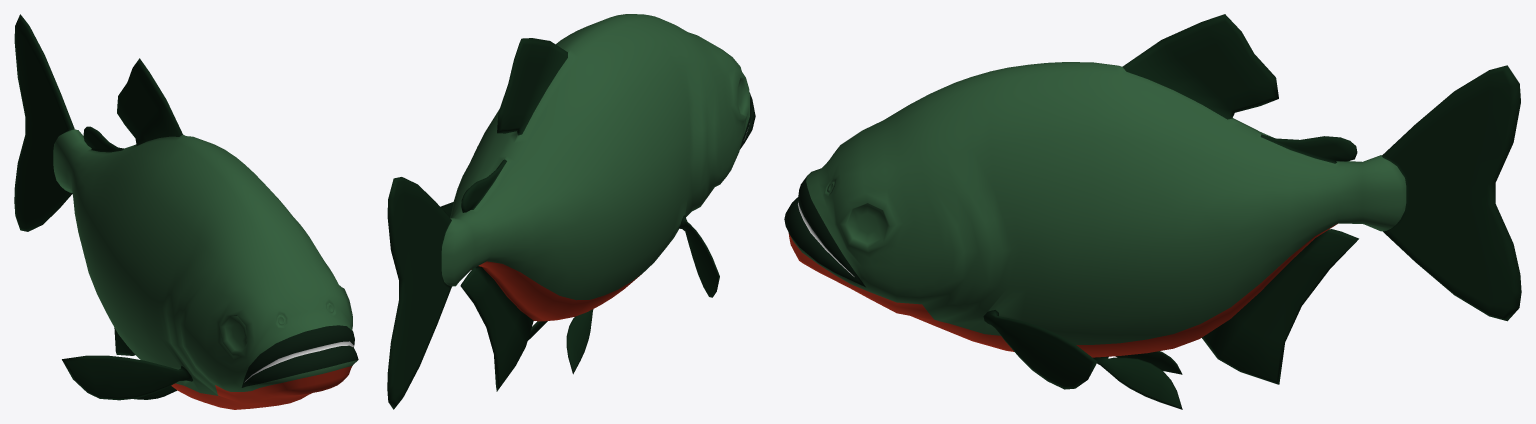
File: piranha_piranha.obj
3 views of the same model, side by side, from view 1: azimuth 30°, elevation 25°; view 2: azimuth 150°, elevation 25°; view 3: azimuth 270°, elevation 25° (orthographic). The views are drawn at different scales.
Visible parts, largest first — view 1: piranha; view 2: piranha; view 3: piranha.
Part boxes in pixels (x1,y1,x2,y2): piranha: (14,14,358,409); piranha: (387,14,755,409); piranha: (784,14,1521,409).
Bounding box in the file's own units: 0.1335 × 0.1547 × 0.2731.
